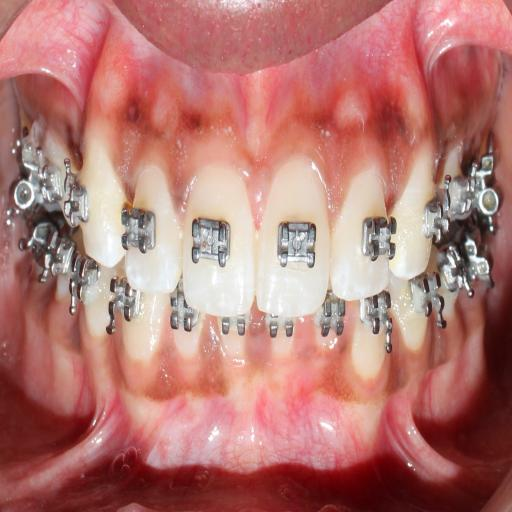correct_brace: (187, 208, 233, 285), (270, 212, 320, 272), (361, 206, 396, 266), (120, 202, 156, 260), (425, 184, 454, 247), (63, 171, 89, 232)
incorrect_brace: (328, 162, 394, 308), (122, 156, 184, 298)
